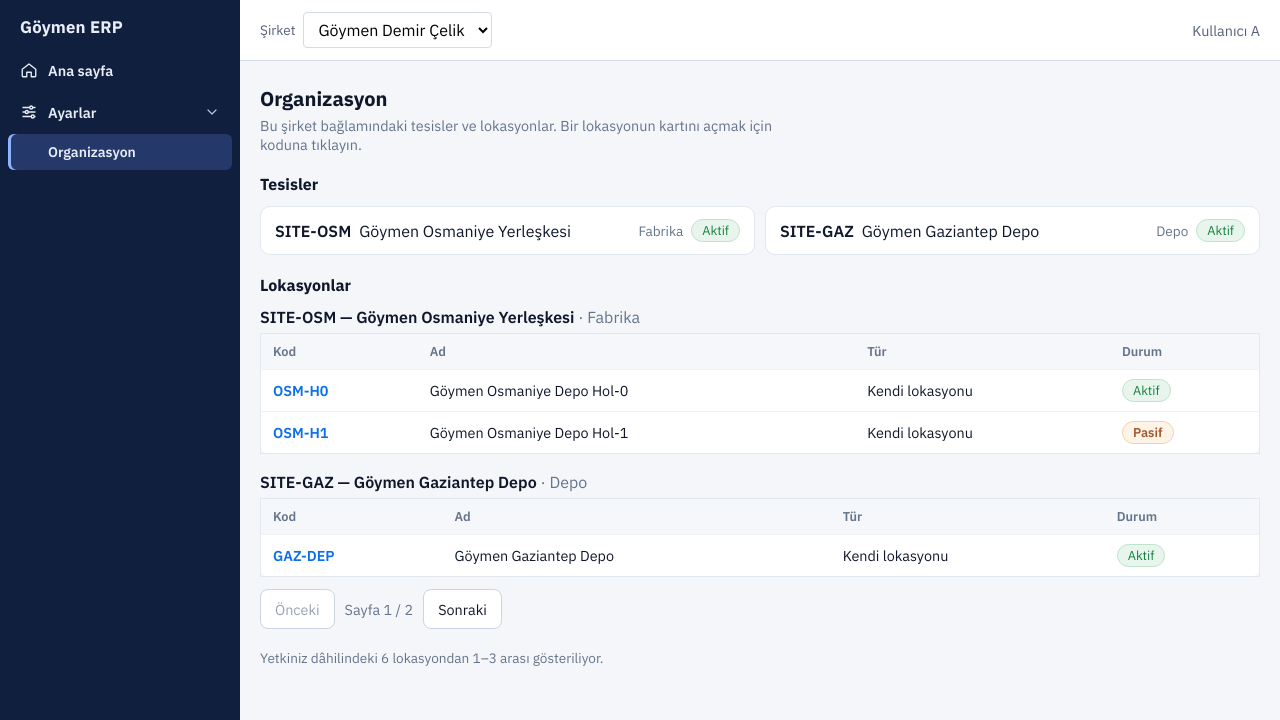
it: returning from a location card › comes back to the page the card was opened from, not page 1
Click the button "Sonraki" at (463,609), box [423,589,502,629]
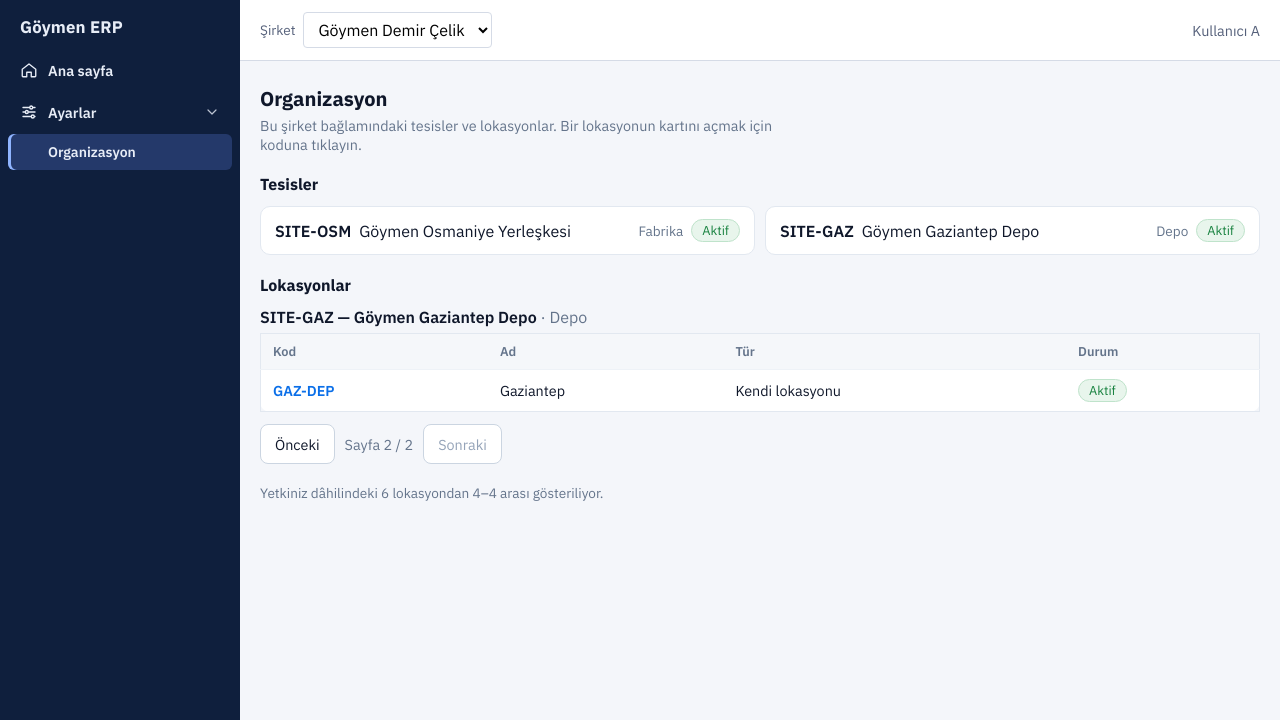
Check: the text "Sayfa 2 / 2" is shown, box [345,434,413,454]
Click the link "GAZ-DEP" at (304,390), box [273,381,334,400]
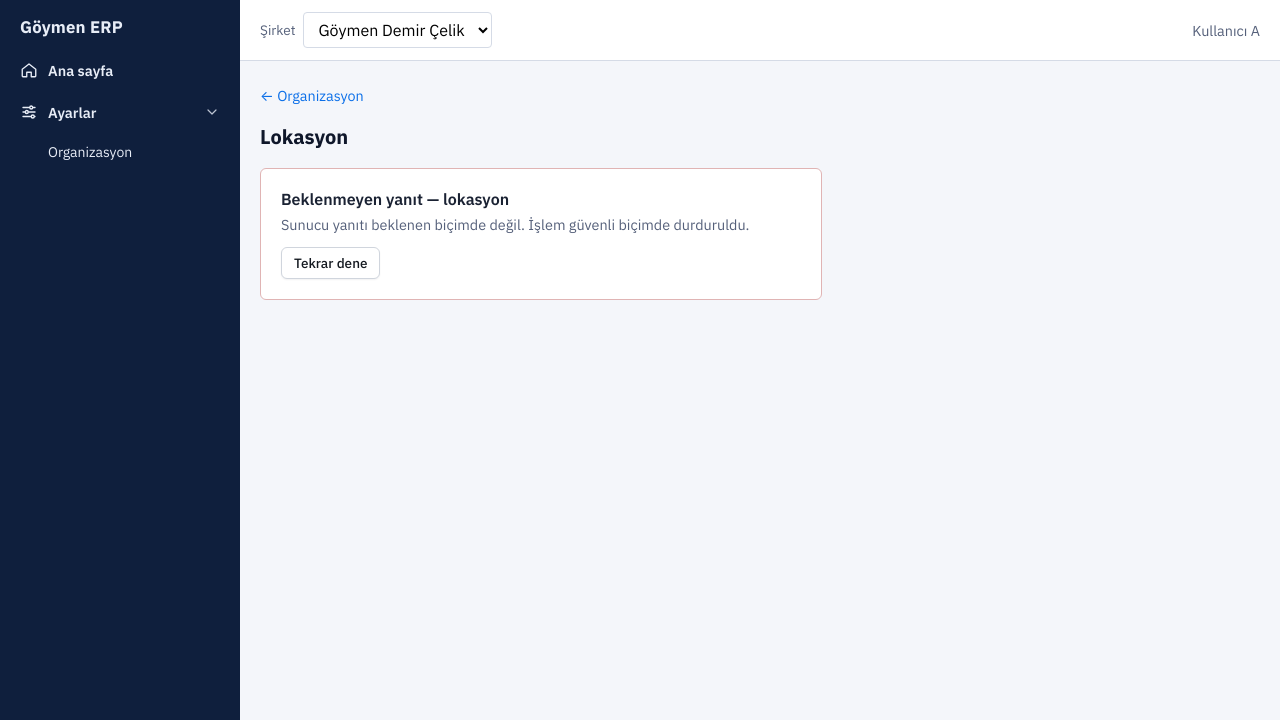
Check: the heading "Lokasyon" is shown, box [260,123,348,150]
Click the link "← Organizasyon" at (269,96), box [260,86,364,105]
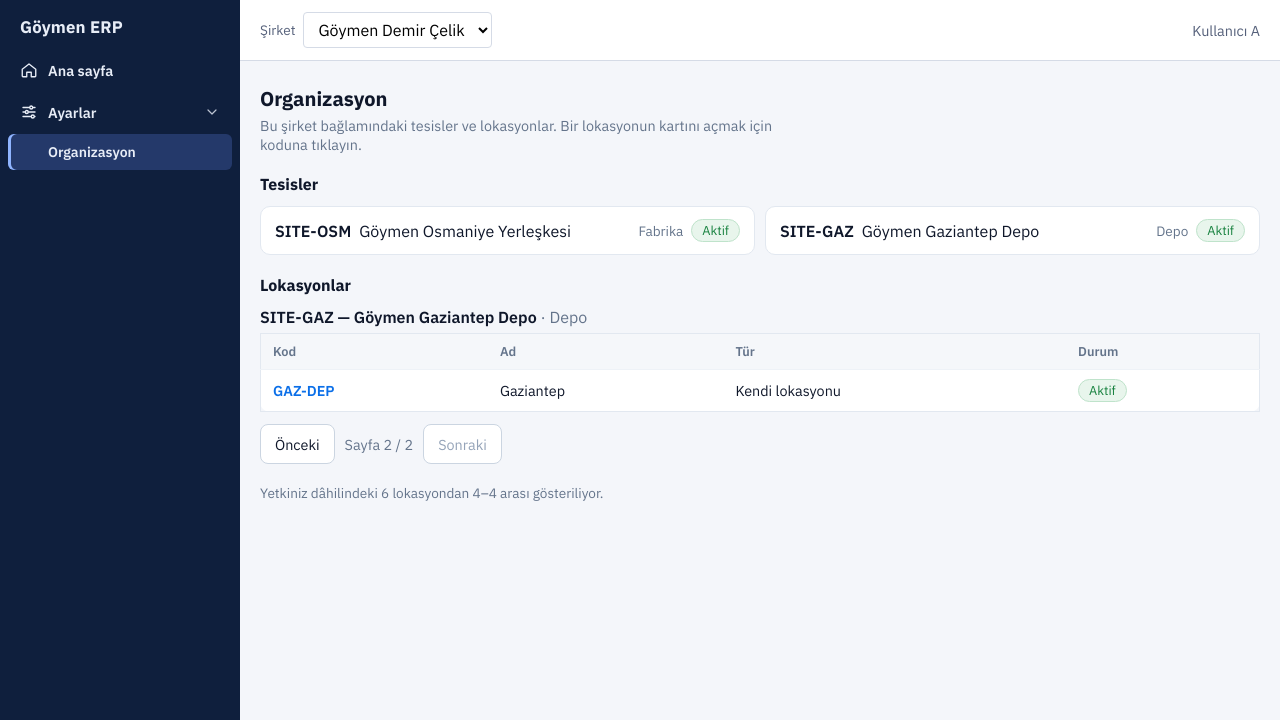
Check: the text "Sayfa 2 / 2" is shown, box [345,434,413,454]
Check: the link "GAZ-DEP" is shown, box [273,381,334,400]
